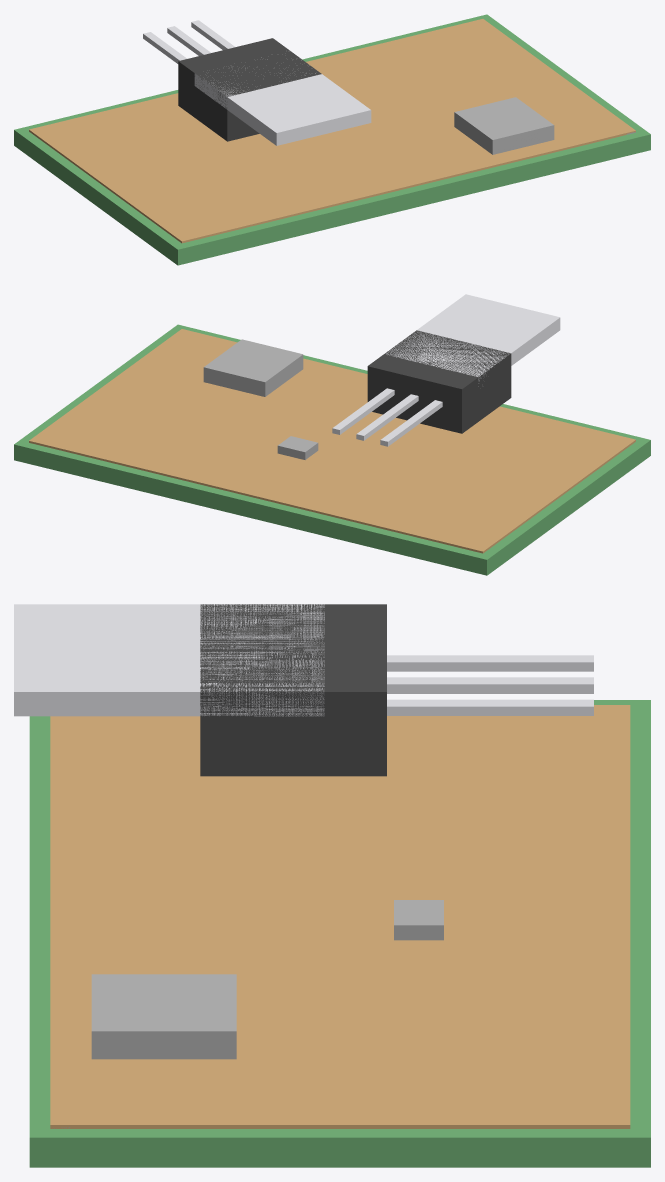
The model's file is board.glb.
3 renders of one model, top to bottom at view 1: azimuth 30°, elevation 25°; view 2: azimuth 150°, elevation 25°; view 3: azimuth 270°, elevation 25°, orthographic. The views are drawn at different scales.
Visible parts, largest first — view 1: Substrate_Layer_1, Substrate_Layer_0, U1_body, U1_tab, Q2, U1_pin_0, U1_pin_1, U1_pin_2; view 2: Substrate_Layer_1, Substrate_Layer_0, U1_body, U1_tab, Q2, U1_pin_2, U1_pin_1, U1_pin_0, Q1; view 3: Substrate_Layer_1, Substrate_Layer_0, U1_body, U1_tab, Q2, U1_pin_0, U1_pin_1, U1_pin_2, Q1.
Boxes of the visible parts, x1,y1,x2,y2 form: Substrate_Layer_1: (29,19,635,243); Substrate_Layer_0: (14,14,650,265); U1_body: (178,38,321,141); U1_tab: (194,57,371,145); Q2: (454,97,554,154); U1_pin_0: (143,32,186,63); U1_pin_1: (167,26,210,55); U1_pin_2: (191,20,235,49); Substrate_Layer_1: (29,329,635,553); Substrate_Layer_0: (14,324,650,575); U1_body: (367,330,511,433); U1_tab: (386,294,560,386); Q2: (203,339,303,396); U1_pin_2: (332,388,394,434); U1_pin_1: (356,394,418,440); U1_pin_0: (380,400,442,446); Q1: (277,436,318,459); Substrate_Layer_1: (50,705,630,1128); Substrate_Layer_0: (29,700,650,1167); U1_body: (200,604,386,776); U1_tab: (14,604,324,716); Q2: (91,974,236,1059); U1_pin_0: (387,655,593,671); U1_pin_1: (387,677,593,693); U1_pin_2: (387,699,593,715); Q1: (394,900,443,940).
Size of the model in its own units: 0.05 by 0.0114 by 0.0308.
